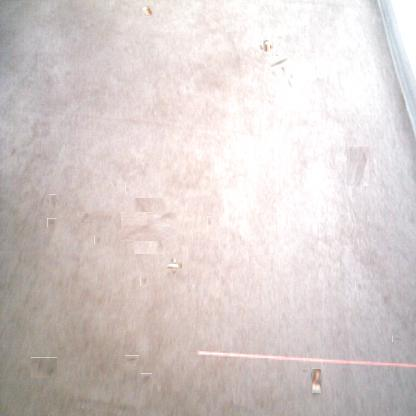dirty: (311, 368, 321, 393), (168, 259, 180, 271), (141, 6, 153, 16), (261, 41, 271, 51)
mark: (127, 204, 171, 248), (347, 145, 369, 186), (31, 357, 57, 378), (272, 54, 287, 69), (77, 211, 91, 223), (47, 196, 58, 208), (286, 71, 294, 87), (141, 373, 152, 384), (127, 354, 138, 364), (94, 235, 103, 245), (47, 218, 56, 227), (112, 179, 118, 191), (394, 335, 402, 344), (355, 281, 362, 291), (140, 276, 147, 286), (207, 216, 212, 229), (301, 366, 309, 374), (125, 183, 130, 193)
